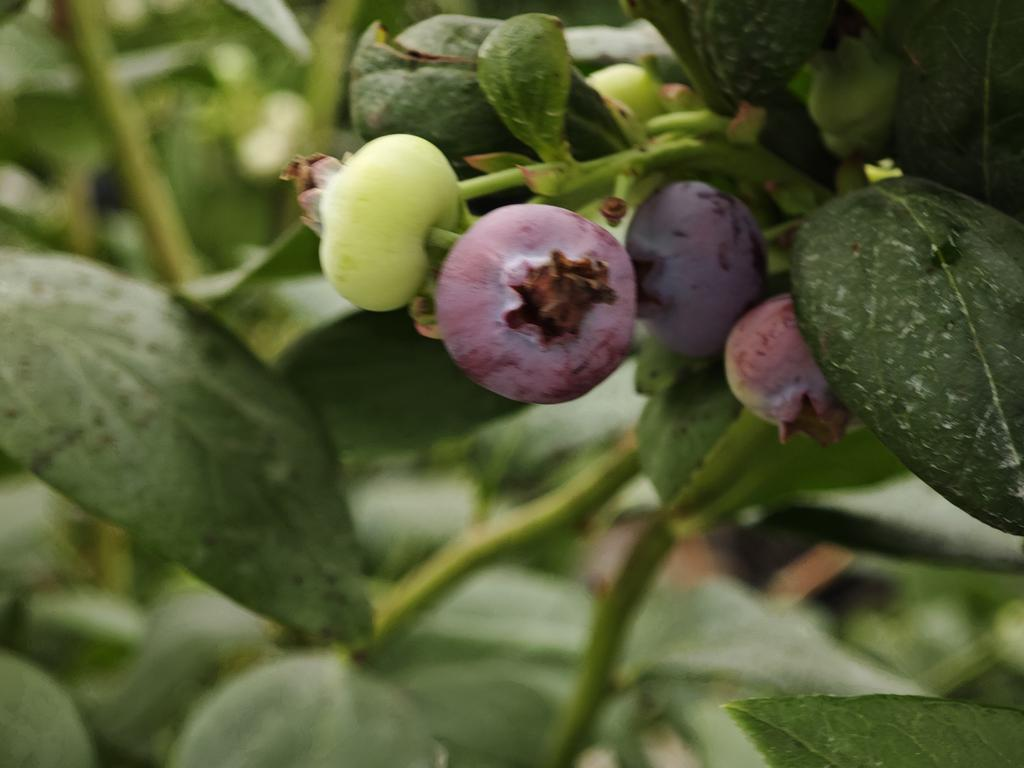Semi-RipeBlueBerry: (437, 202, 639, 408), (627, 181, 765, 358), (726, 289, 849, 439)
UnripeBlueBerry: (317, 132, 462, 317)
